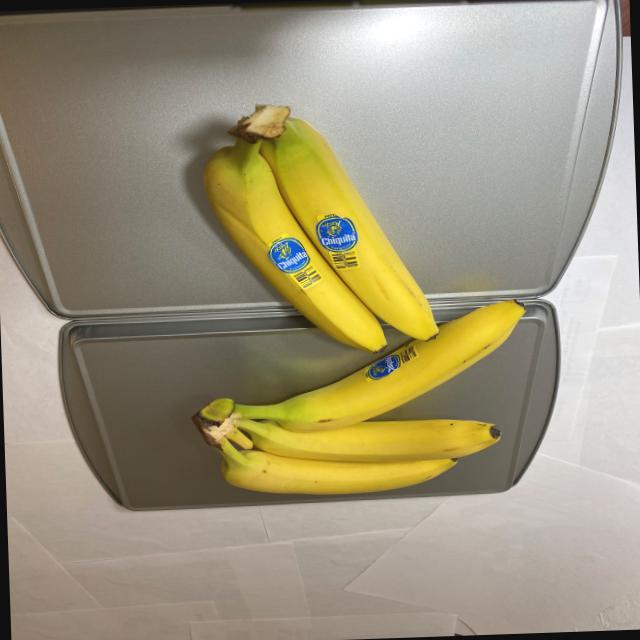banana: (181, 296, 538, 499), (192, 95, 446, 360)
